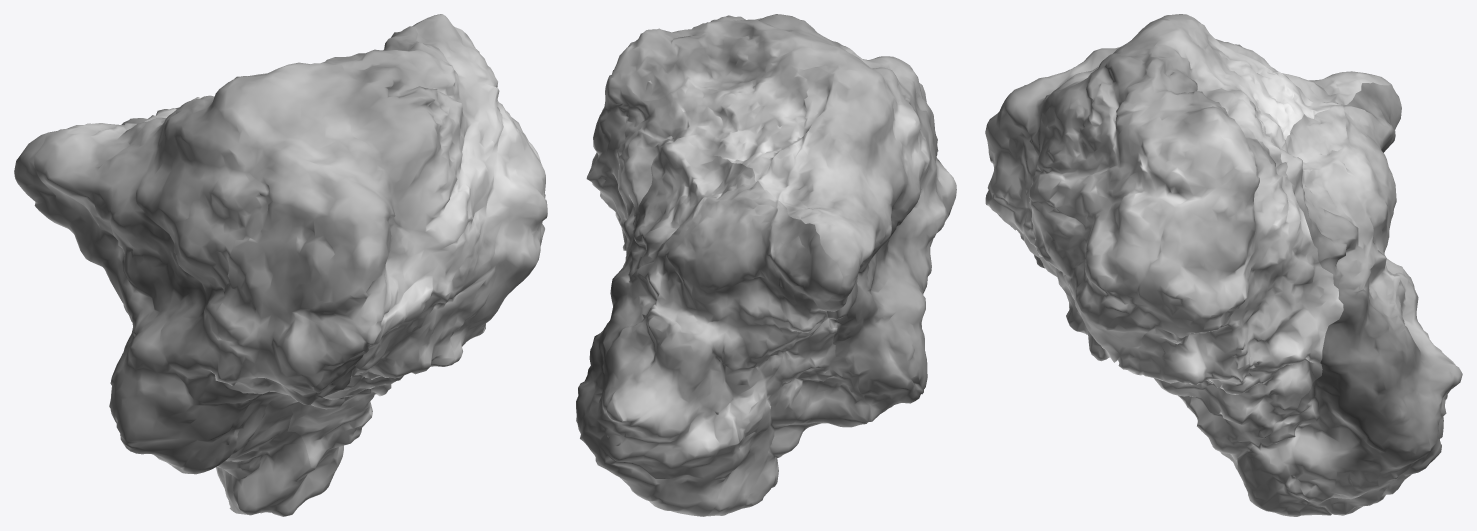
The model's file is Mesh_Rock_C_New.fbx.
The picture shows the model from 3 angles, left to right: view 1: azimuth 30°, elevation 25°; view 2: azimuth 150°, elevation 25°; view 3: azimuth 270°, elevation 25°; orthographic projection. The views are drawn at different scales.
Parts seen in each view (by area): view 1: SM_Rock_C_New_LOD0; view 2: SM_Rock_C_New_LOD0; view 3: SM_Rock_C_New_LOD0.
Part boxes in pixels (bbox=[...]): SM_Rock_C_New_LOD0: bbox=[14, 14, 547, 516]; SM_Rock_C_New_LOD0: bbox=[576, 14, 956, 516]; SM_Rock_C_New_LOD0: bbox=[985, 14, 1462, 516].
Bounding box in the file's own units: 334 × 370 × 401.
Materials: 1 (1 with a texture image).
